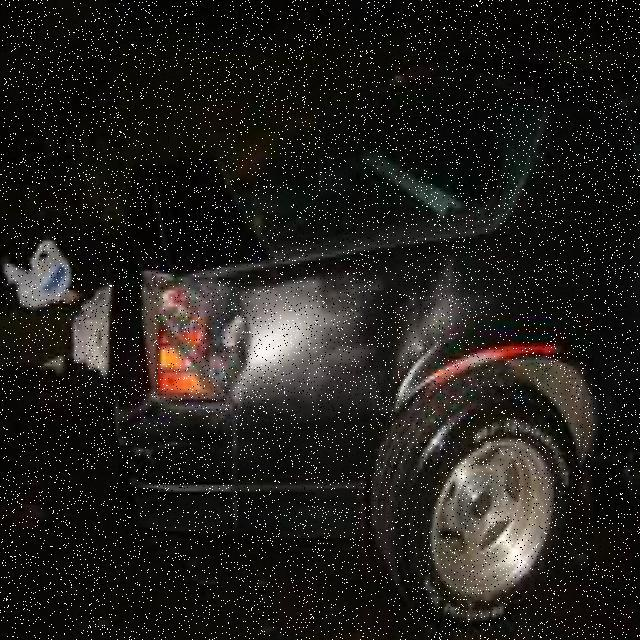quaterpanel-dent: (220, 241, 514, 505)
